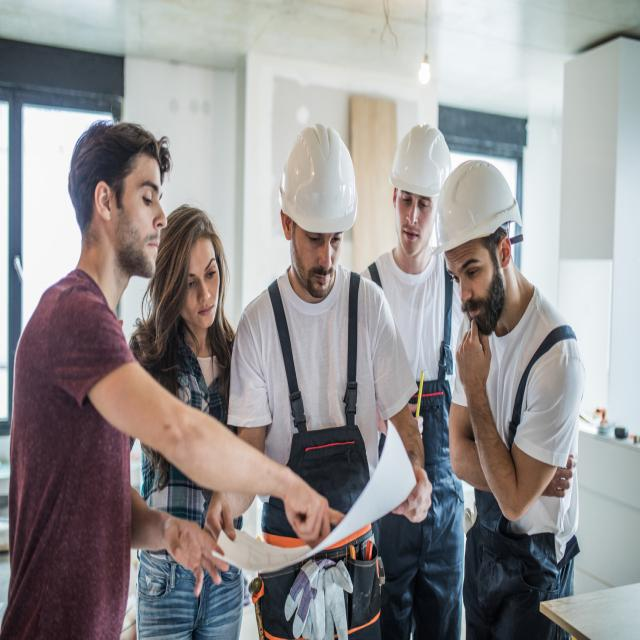secure person: (242, 124, 398, 515), (438, 160, 578, 590), (376, 125, 452, 480)
unsecured person: (8, 122, 171, 542), (130, 206, 234, 425), (142, 447, 212, 528)
